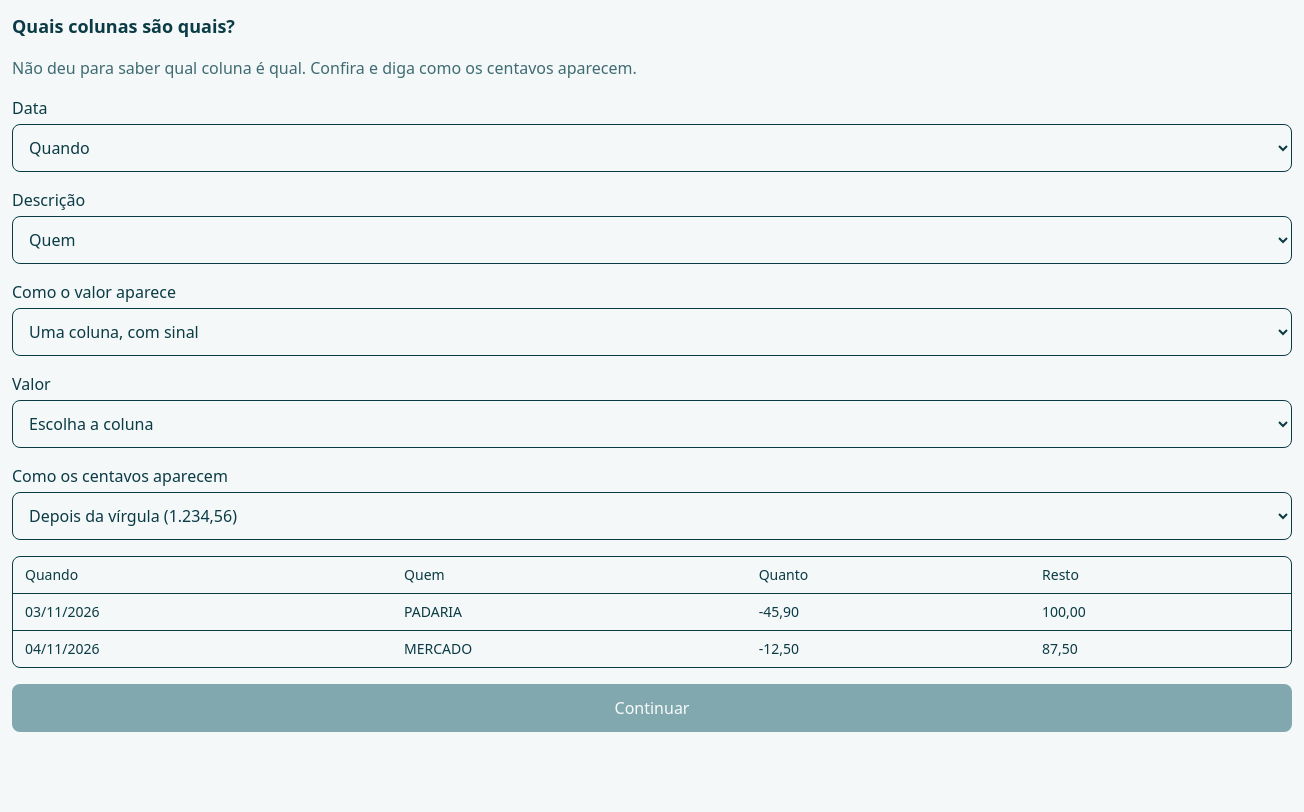
Test: ColumnMapping › continueNeedsAllColumns
Later steps or results of the test are not shown.
Check: the button "Continuar" is disabled, box [12,684,1292,732]
Select "Quanto" in the dropdown labelled "Valor" at (652, 424), box [12,400,1292,448]
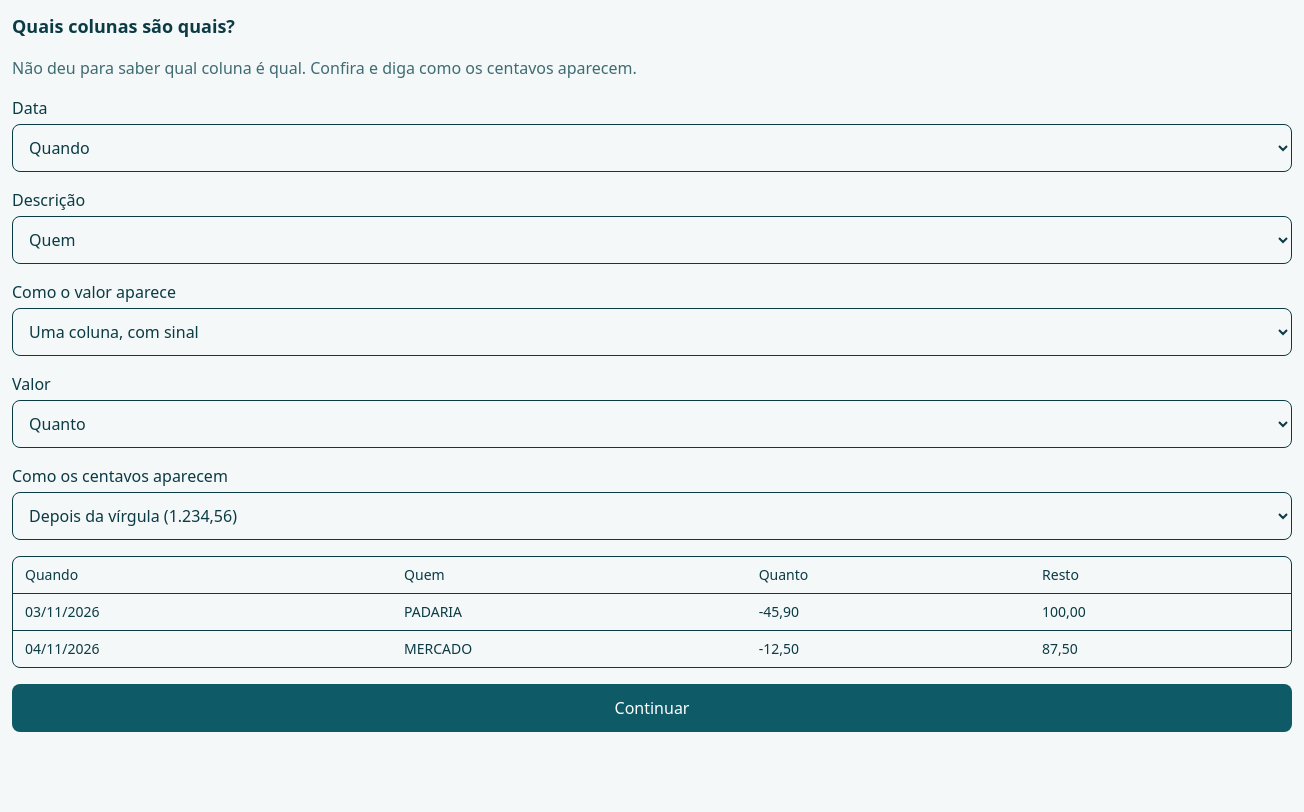
Check: the button "Continuar" is enabled, box [12,684,1292,732]
